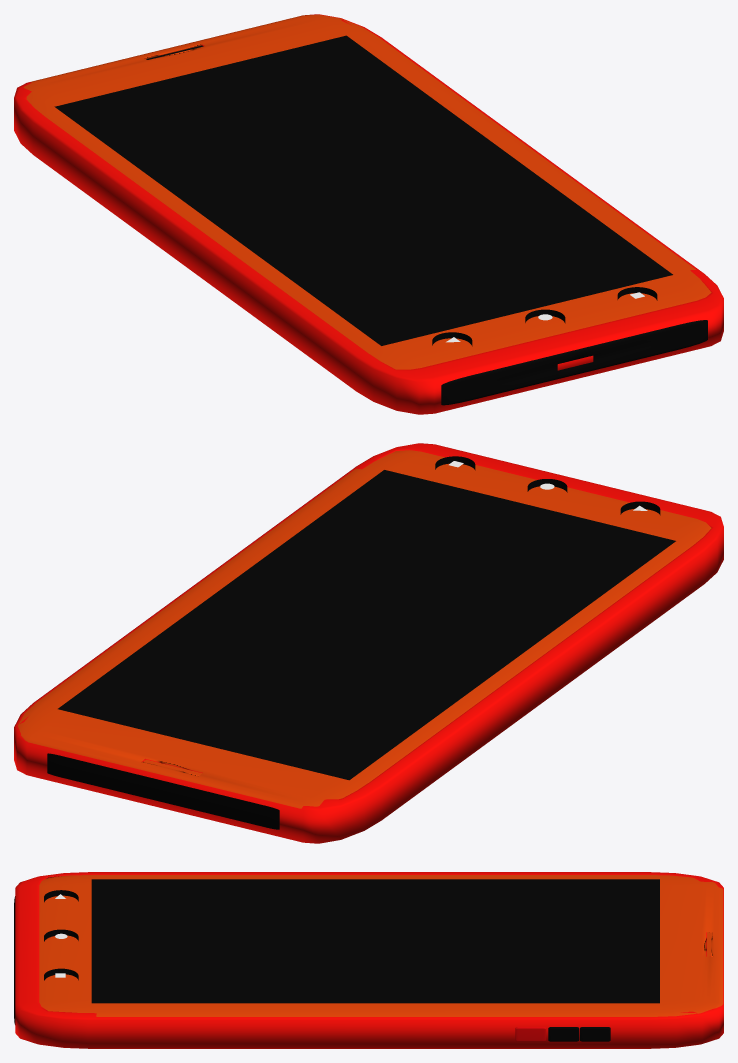
The picture shows the model from 3 angles, top to bottom: view 1: azimuth 30°, elevation 25°; view 2: azimuth 150°, elevation 25°; view 3: azimuth 270°, elevation 25°; orthographic projection. The views are drawn at different scales.
Parts seen in each view (by area): view 1: Plane, Roundcube, Roundcube.009, Roundcube.007; view 2: Plane, Roundcube, Roundcube.009, Roundcube.004; view 3: Plane, Roundcube.009, Roundcube, Roundcube.002, Roundcube.003, Roundcube.001.
Part boxes in pixels (x1=…): Plane: x1=54, y1=35, x2=672, y2=345; Roundcube: x1=23, y1=14, x2=711, y2=369; Roundcube.009: x1=14, y1=14, x2=723, y2=414; Roundcube.007: x1=441, y1=320, x2=707, y2=405; Plane: x1=58, y1=470, x2=675, y2=780; Roundcube: x1=17, y1=450, x2=711, y2=808; Roundcube.009: x1=14, y1=443, x2=723, y2=843; Roundcube.004: x1=47, y1=753, x2=279, y2=829; Plane: x1=91, y1=879, x2=659, y2=1003; Roundcube.009: x1=15, y1=872, x2=723, y2=1048; Roundcube: x1=39, y1=875, x2=723, y2=1016; Roundcube.002: x1=548, y1=1027, x2=579, y2=1041; Roundcube.003: x1=515, y1=1027, x2=546, y2=1041; Roundcube.001: x1=580, y1=1027, x2=610, y2=1041.
Size of the model in its own units: 0.1733 by 0.0225 by 0.349.
